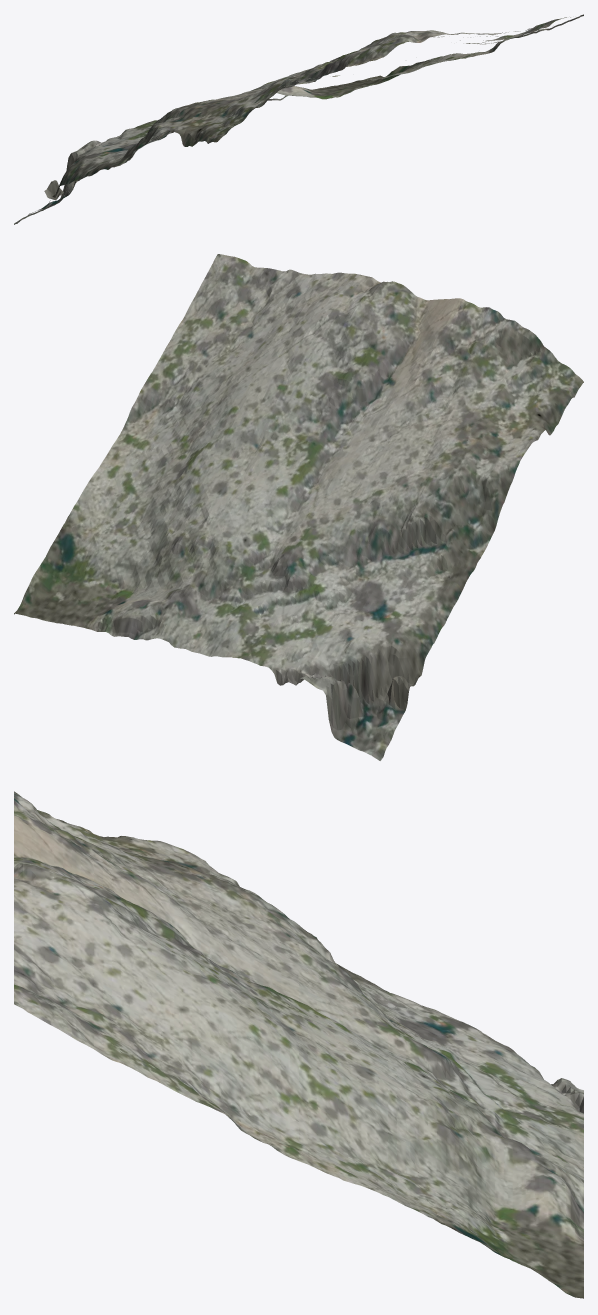
The picture shows the model from 3 angles, top to bottom: view 1: azimuth 30°, elevation 25°; view 2: azimuth 150°, elevation 25°; view 3: azimuth 270°, elevation 25°; orthographic projection. The views are drawn at different scales.
Size of the model in its own units: 250 by 187 by 241.
Materials: 1 (1 with a texture image).
